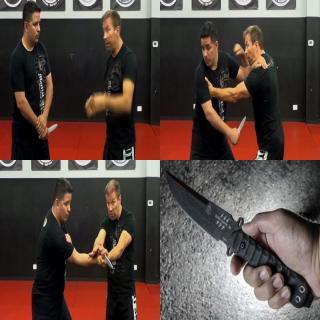knife: (162, 165, 258, 271), (230, 113, 246, 147), (37, 121, 59, 141), (98, 244, 114, 270)
